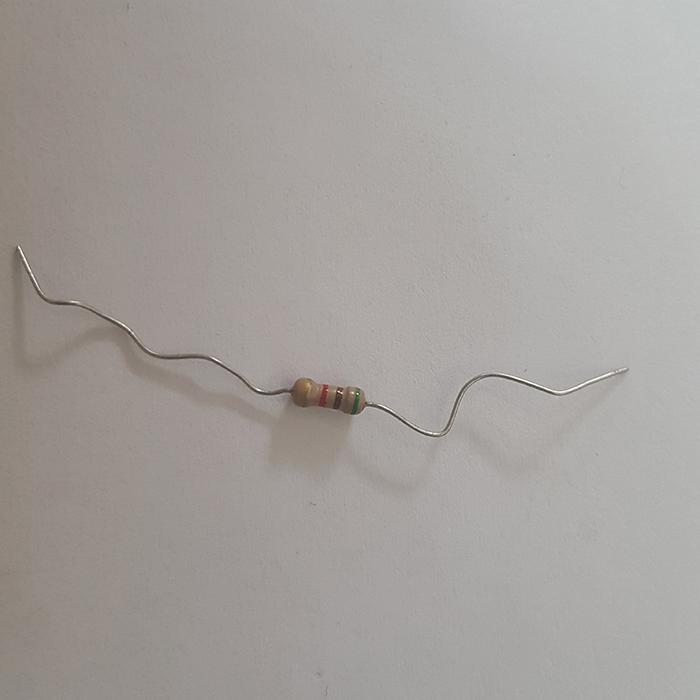resistor: (290, 376, 366, 413)
